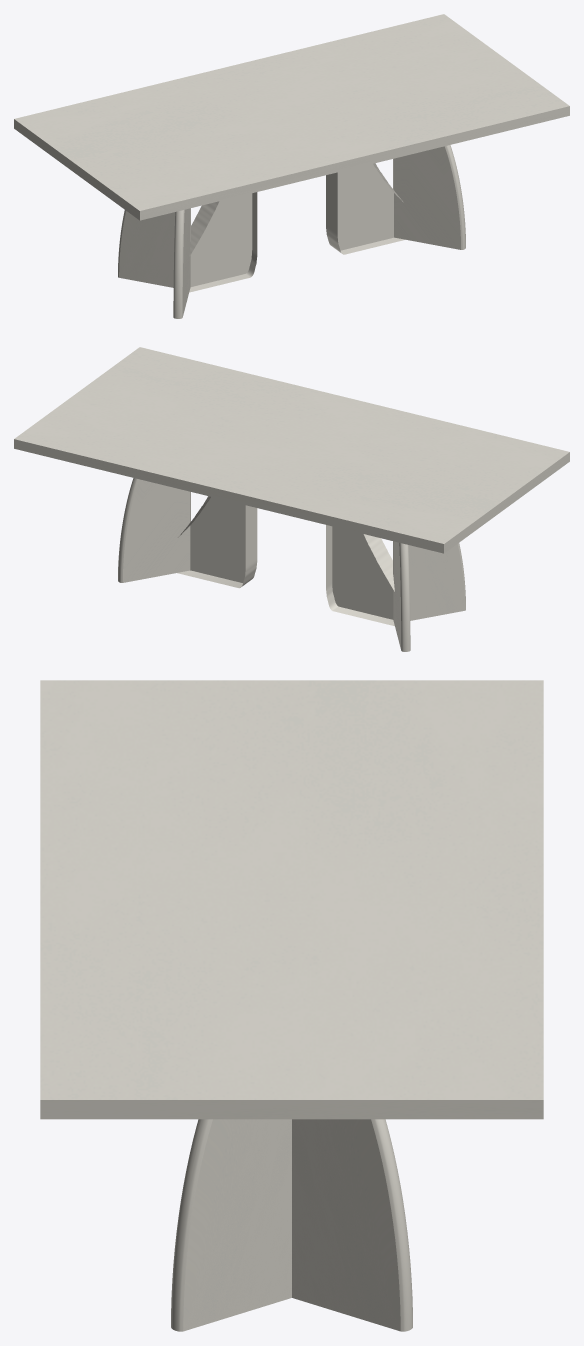
Rendered from pale_recta_standard_plane.glb.
The picture shows the model from 3 angles, top to bottom: view 1: azimuth 30°, elevation 25°; view 2: azimuth 150°, elevation 25°; view 3: azimuth 270°, elevation 25°; orthographic projection. The views are drawn at different scales.
Visible parts, largest first — view 1: standard_recta, plane_singleright2, plane_single1, plane_single2, plane_singleleft1, plane_singleright1; view 2: standard_recta, plane_singleleft2, plane_single1, plane_single2, plane_singleright1, plane_singleleft1; view 3: standard_recta, plane_singleleft2, plane_singleright2.
Boxes of the visible parts, x1,y1,x2,y2 form: standard_recta: [14, 14, 569, 220]; plane_singleright2: [393, 145, 465, 249]; plane_single1: [189, 192, 257, 292]; plane_single2: [326, 163, 405, 254]; plane_singleleft1: [118, 208, 190, 287]; plane_singleright1: [173, 208, 190, 318]; standard_recta: [14, 347, 569, 553]; plane_singleleft2: [118, 478, 190, 582]; plane_single1: [326, 525, 394, 626]; plane_single2: [177, 496, 257, 588]; plane_singleright1: [393, 541, 465, 620]; plane_singleleft1: [393, 541, 410, 651]; standard_recta: [40, 680, 543, 1119]; plane_singleleft2: [292, 1119, 412, 1331]; plane_singleright2: [171, 1119, 291, 1331].
Size of the model in its own units: 7.5 by 2.49 by 3.8.
Materials: 1 (1 with a texture image).
